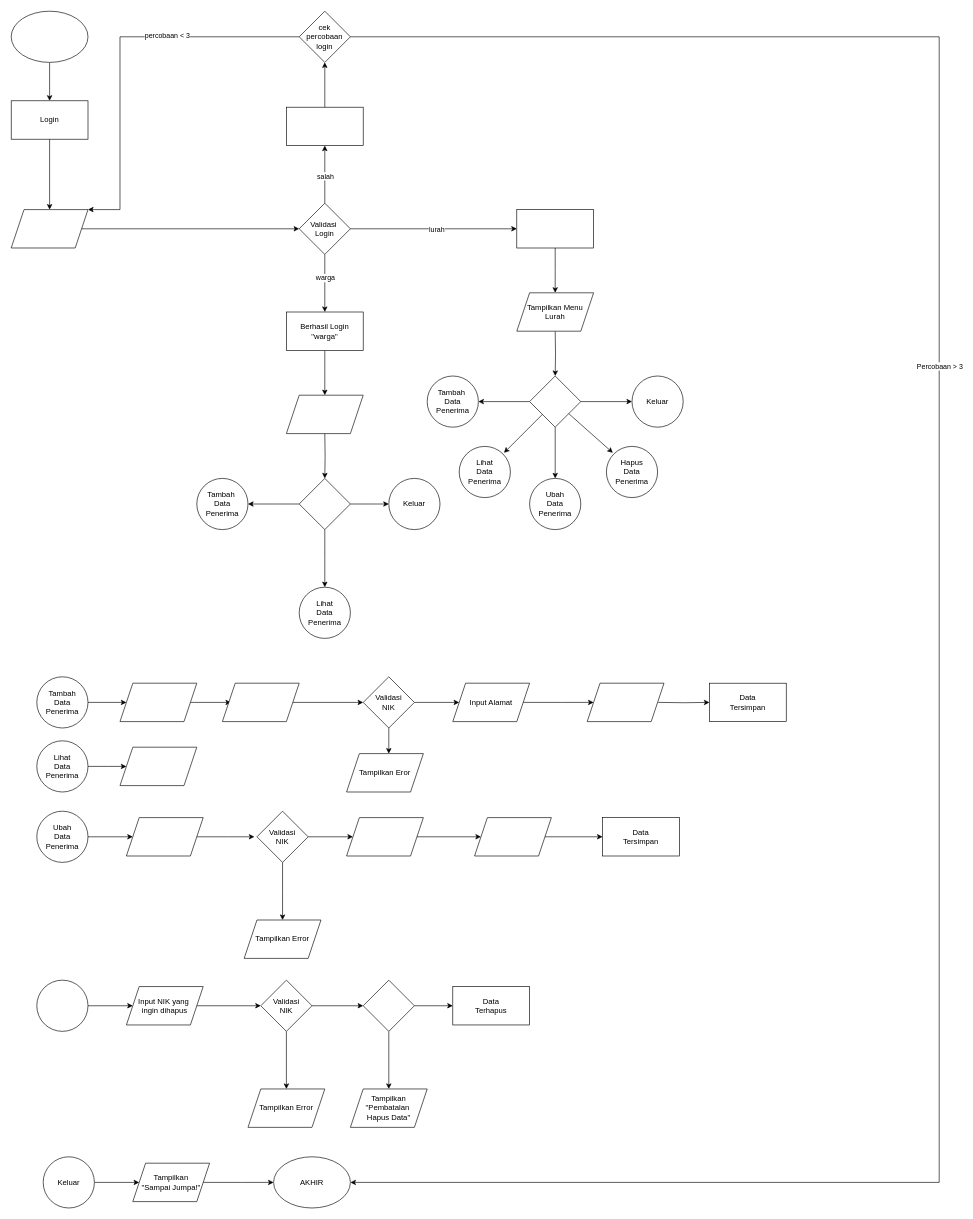
Some shapes in this 973 by 1219 pixel diagram are drawn without their labels. Each missing label, with the box of its shape:
Berhasil Login "lurah": (516, 209, 594, 248)
Hapus Penerima: (36, 980, 88, 1031)
Input Alamat Baru: (346, 817, 423, 856)
Input Jenis Bantuan: (587, 683, 664, 722)
Input Jenis Bantuan Baru: (474, 817, 551, 856)
Input Nama: (119, 683, 197, 722)
Input NIK: (222, 683, 299, 722)
Input NIK yang mau diubah: (126, 817, 203, 856)
Input Username & Password: (11, 209, 88, 248)
Konfirmasi Hapus: (363, 980, 414, 1031)
Login gagal: (286, 107, 363, 146)
MULAI: (11, 11, 88, 62)
Pilihan Menu Lurah: (529, 375, 581, 427)
Pilihan Menu Warga: (299, 478, 350, 530)
Tampilkan Data Penerima: (119, 747, 197, 786)
Tampilkan Menu Warga: (286, 395, 363, 434)
